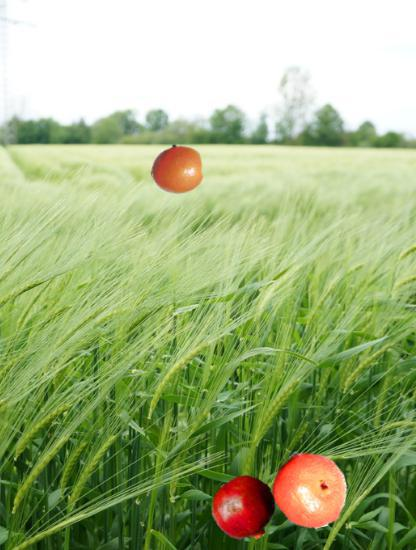Clementine: (269, 449, 350, 530)
Pomegranate: (213, 476, 277, 540)
Tangelo: (150, 142, 204, 196)
